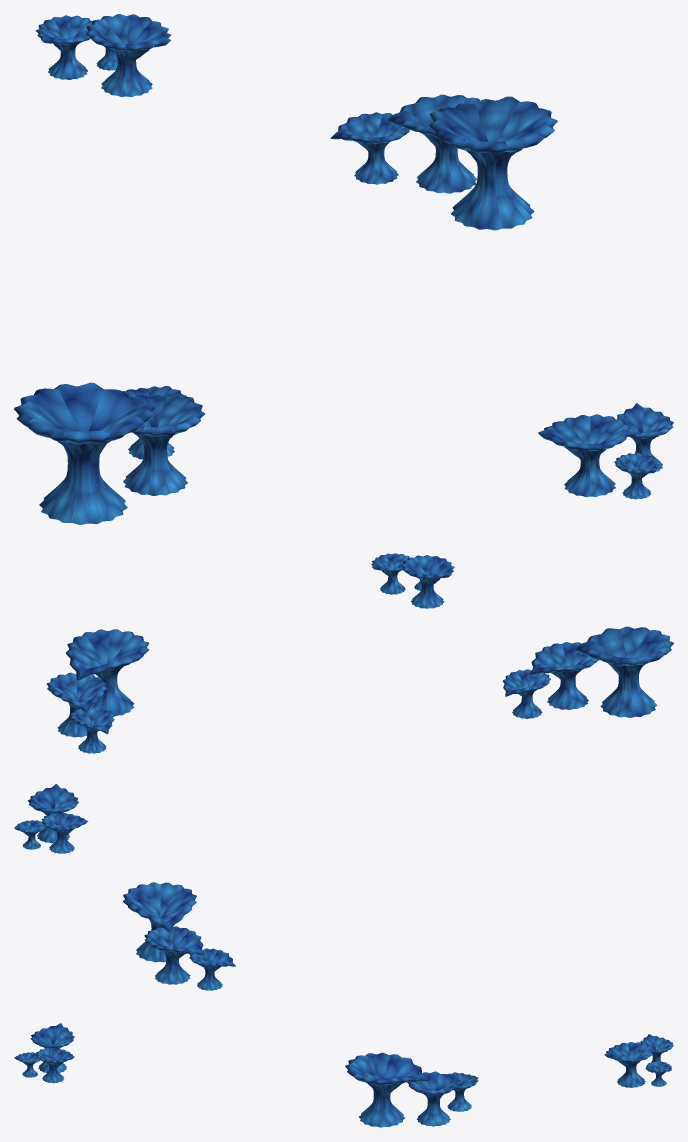
The model's file is bluebigmushroom.glb.
3 views of the same model, one above another, from view 1: azimuth 30°, elevation 25°; view 2: azimuth 150°, elevation 25°; view 3: azimuth 270°, elevation 25° (orthographic). The views are drawn at different scales.
Parts seen in each view (by area): view 1: BlueBigMushroom; view 2: BlueBigMushroom; view 3: BlueBigMushroom.
Boxes of the visible parts, x1,y1,x2,y2 form: BlueBigMushroom: (14, 14, 673, 524); BlueBigMushroom: (14, 553, 673, 853); BlueBigMushroom: (14, 882, 673, 1127).
Size of what is drawn, in the model's own units: 68.09 by 9.82 by 96.92.
1 material, 1 textured.
